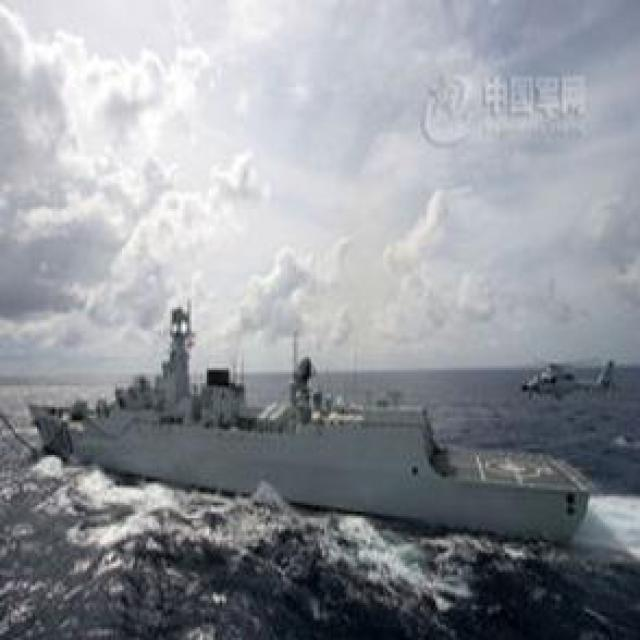navalvessels: (36, 316, 608, 566)
